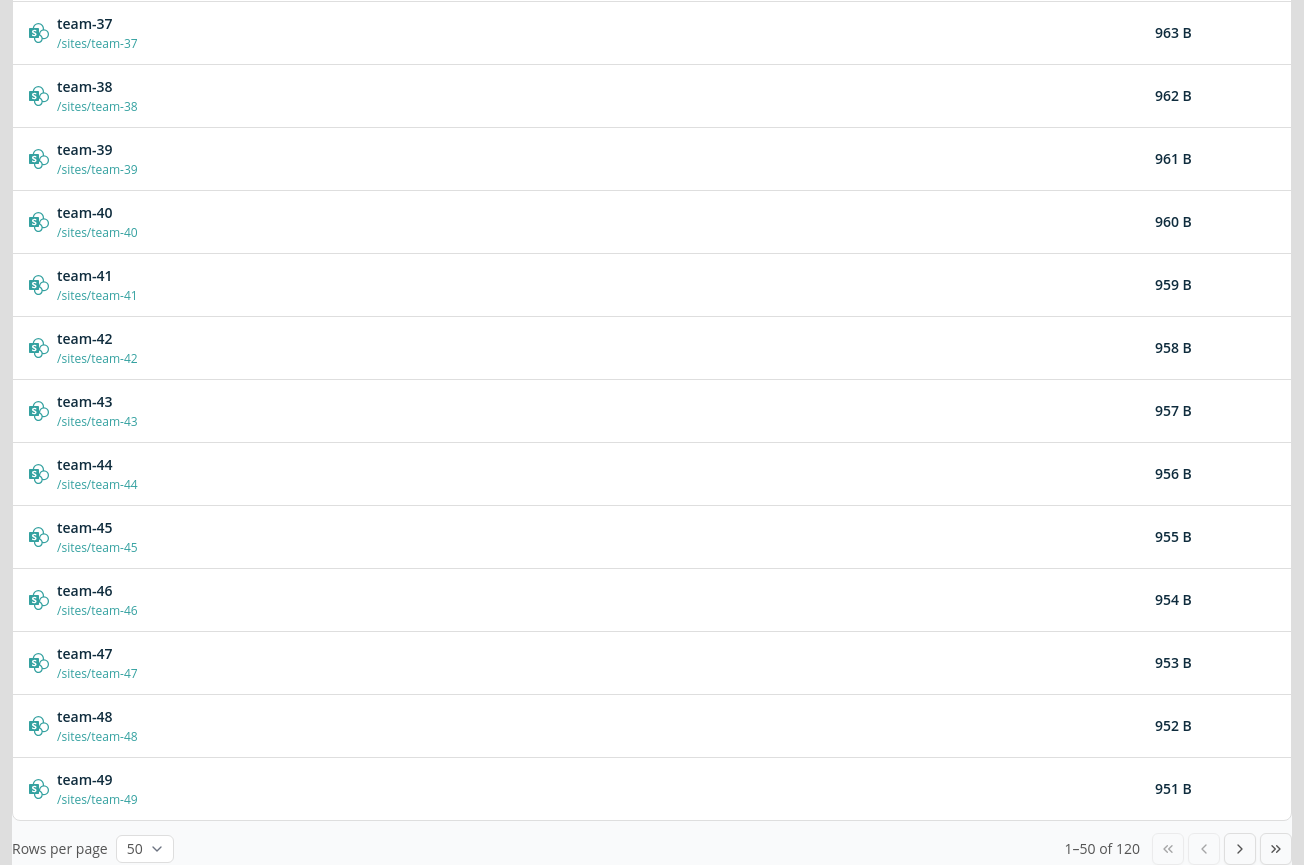
Test: SiteTable › pagination › returns to the first page when the sort changes
(page scrolled)
Click the button named "Next page" at (1240, 849), box [1224, 833, 1256, 864]
(page scrolled)
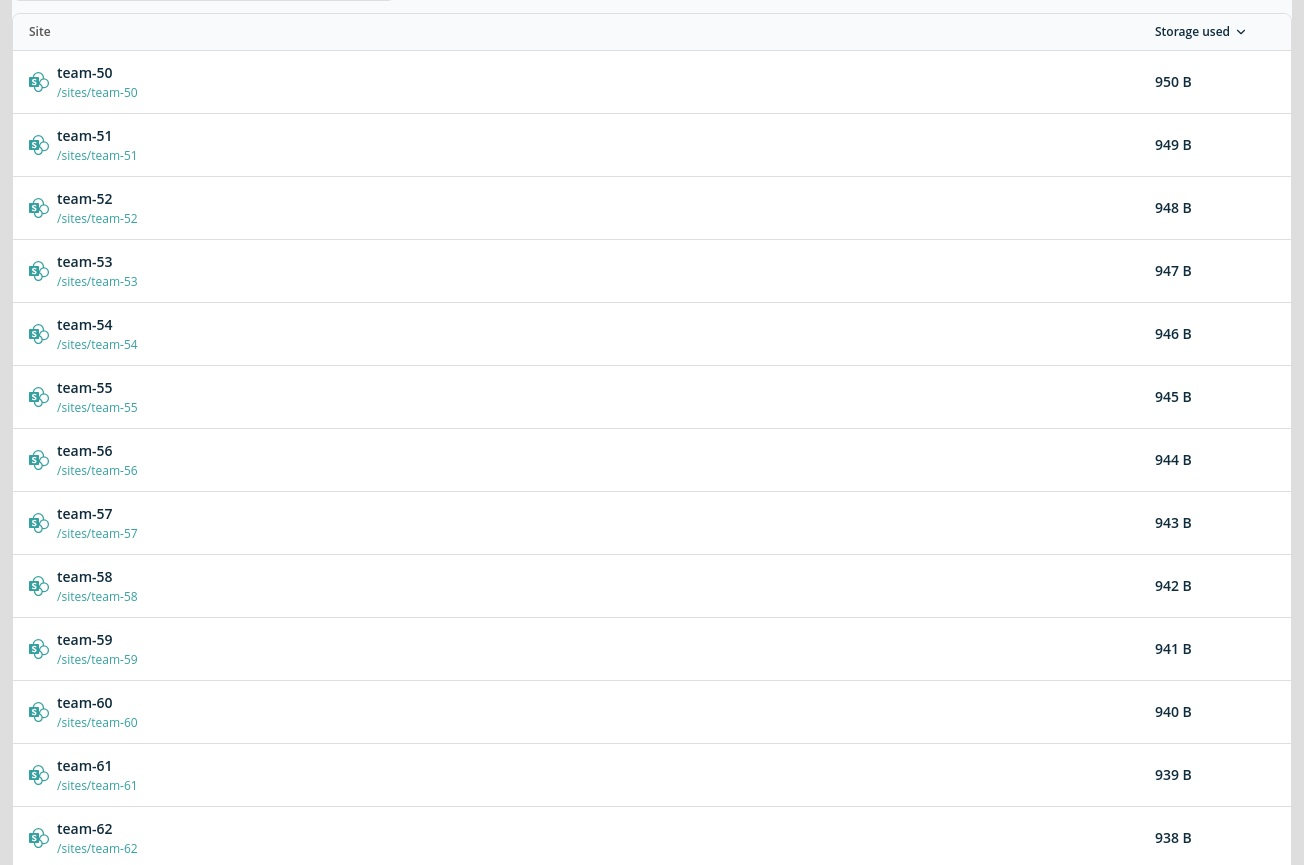
Click the column heading "Storage used" at (1215, 32), box [1155, 24, 1275, 40]
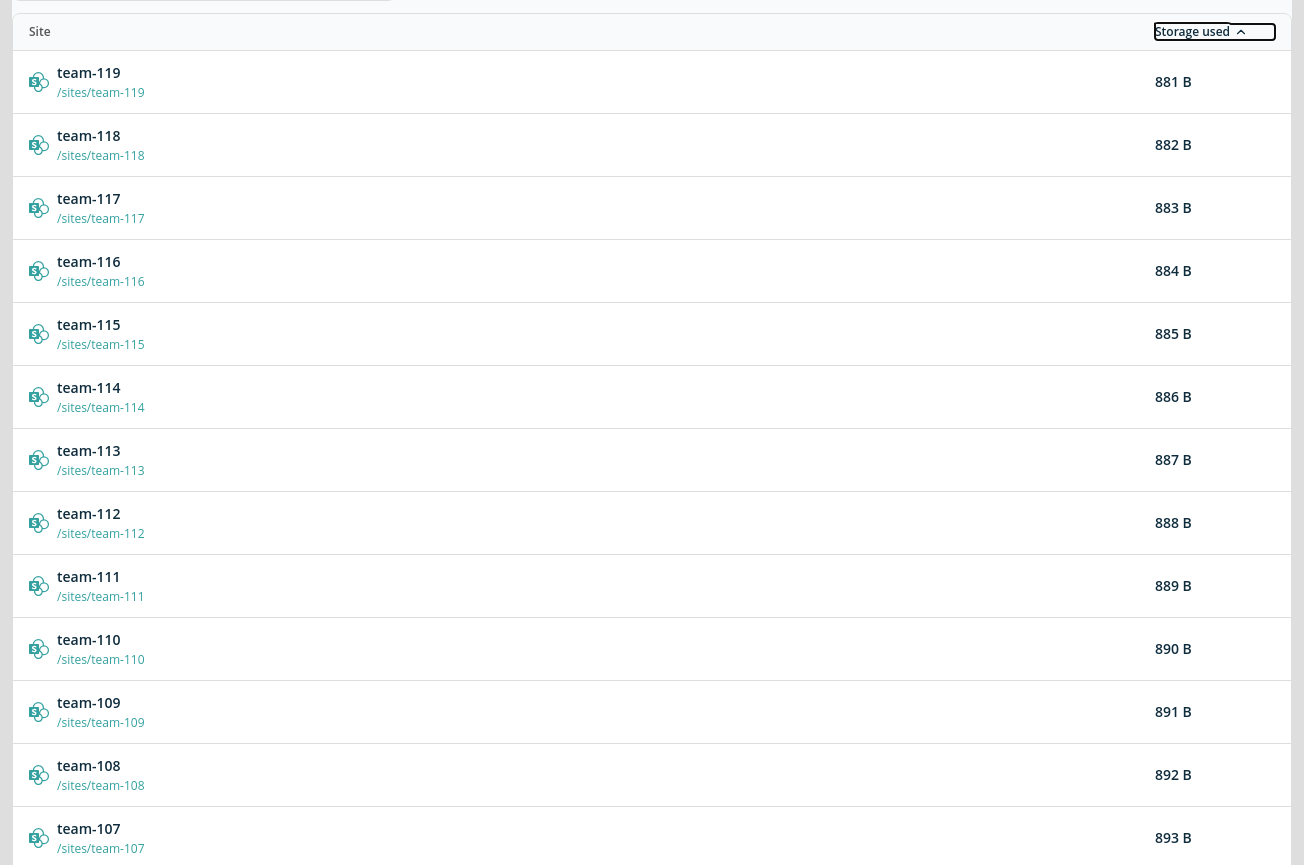
Expected: the cell "team-119 /sites/team-119" is shown, [29, 63, 144, 101]
